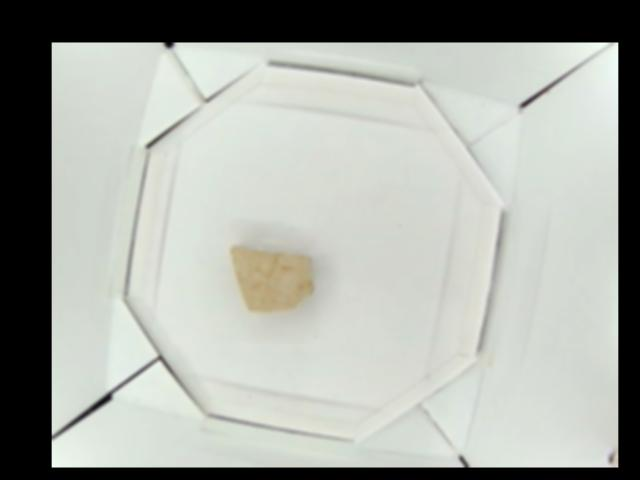China: (227, 244, 311, 313)
